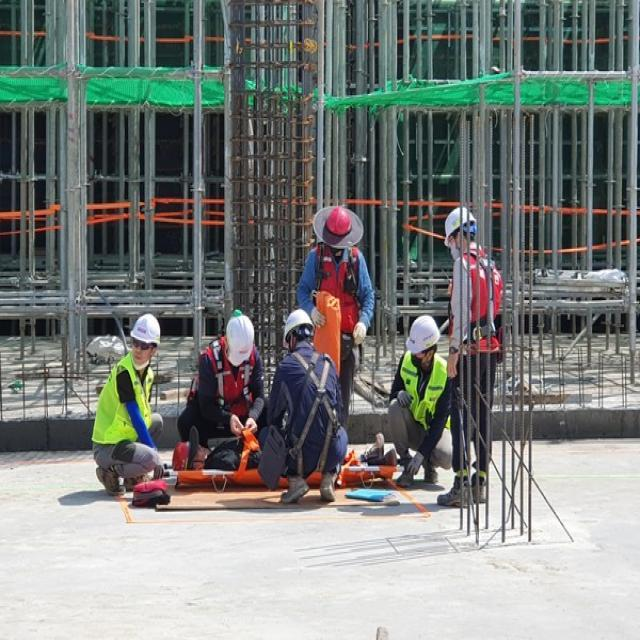belt: (287, 348, 342, 488), (466, 248, 506, 368)
